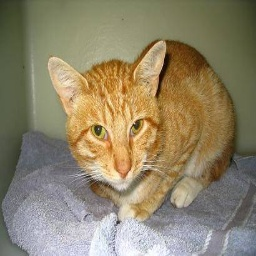cat: (46, 30, 234, 217)
